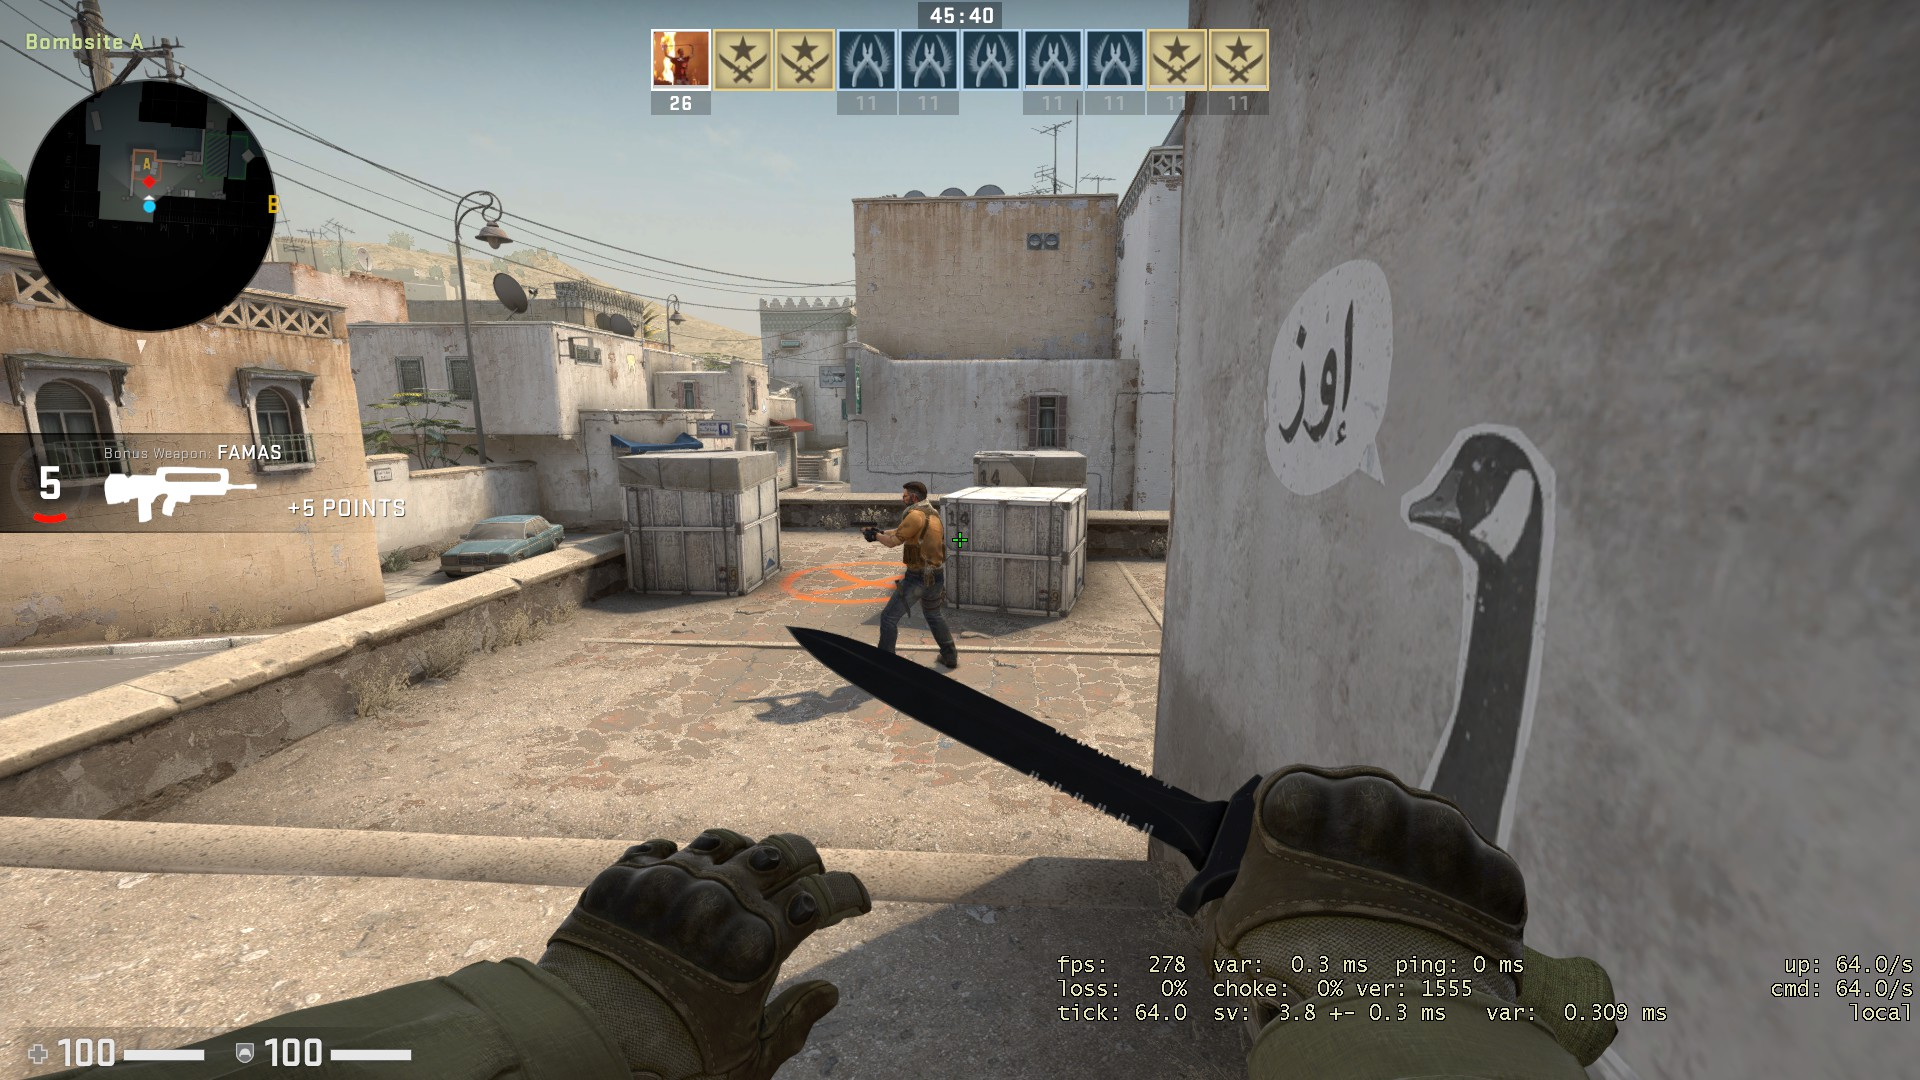player: (854, 476, 963, 673)
